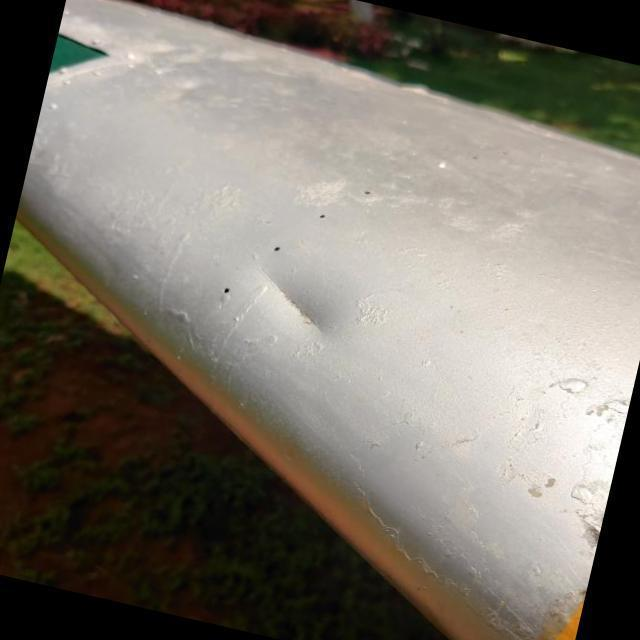Dent: (222, 228, 378, 376)
